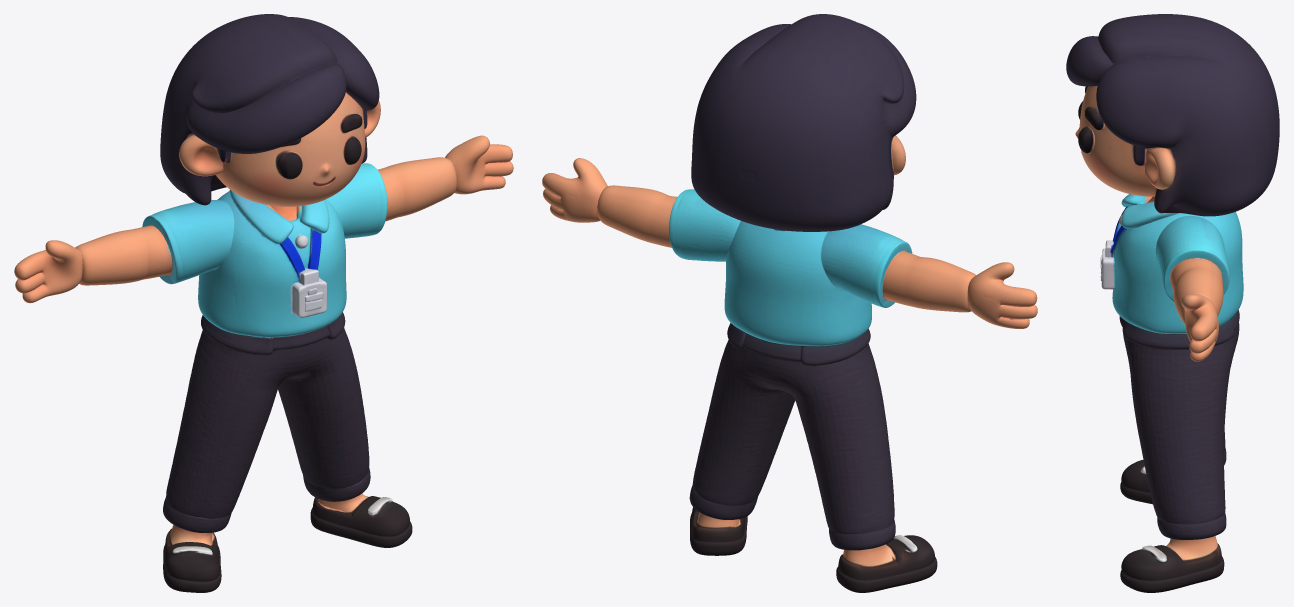
The model's file is tripo_convert_1db4187b-43f2-40f8-869b-ce2f9a68055d.fbx.
3 renders of one model, left to right at view 1: azimuth 30°, elevation 25°; view 2: azimuth 150°, elevation 25°; view 3: azimuth 270°, elevation 25°, orthographic. The views are drawn at different scales.
Visible parts, largest first — view 1: tripo_node_1db4187b; view 2: tripo_node_1db4187b; view 3: tripo_node_1db4187b.
Boxes of the visible parts, x1=… form: tripo_node_1db4187b: x1=14, y1=14, x2=513, y2=592; tripo_node_1db4187b: x1=542, y1=14, x2=1037, y2=592; tripo_node_1db4187b: x1=1066, y1=14, x2=1279, y2=592.
Bounding box in the file's own units: 0.9809 × 1 × 0.3772.
Materials: 1 (1 with a texture image).
